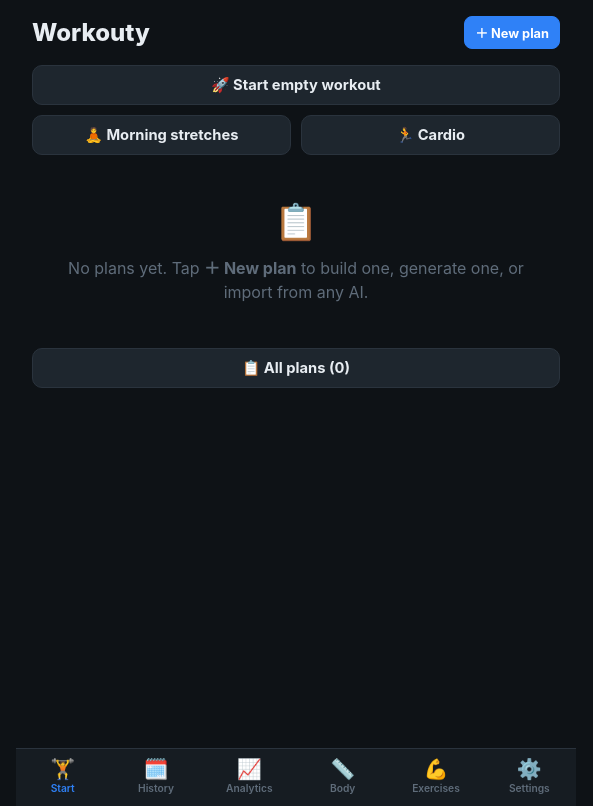
Test: app UI › renders home, navigates all tabs without crashing
Check: the text "Workouty" is shown, box [32,18,150,47]
Click the text "History".
click(156, 788)  # box [138,782,174,794]
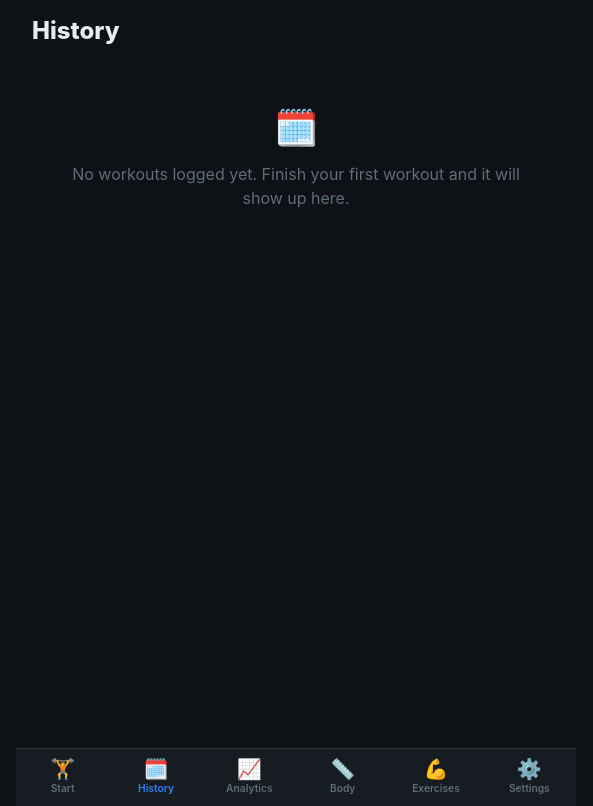
Check: the text "No workouts logged yet" is shown, box [72,164,520,208]
Click the text "Analytics".
click(249, 788)  # box [226,782,272,794]
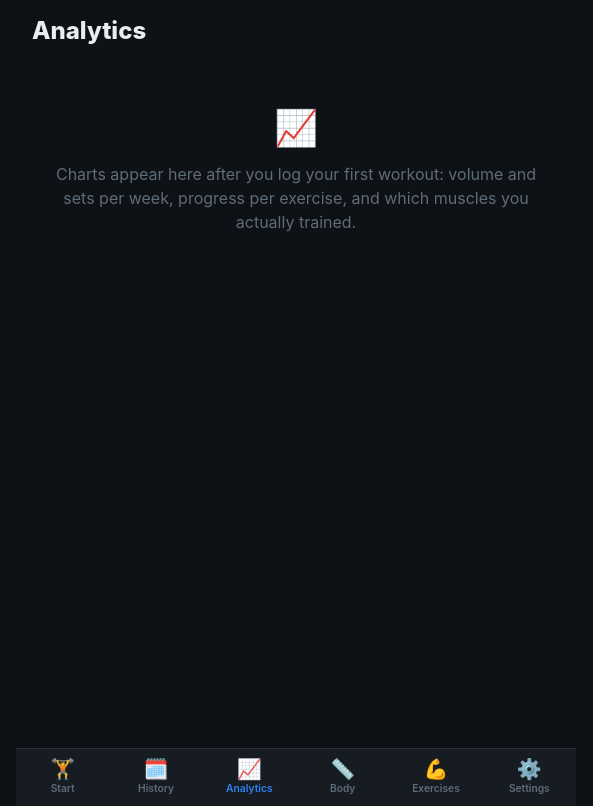
Check: the text "Charts appear here" is shown, box [56,164,536,232]
Click the text "Exercises".
click(436, 788)  # box [412,782,460,794]
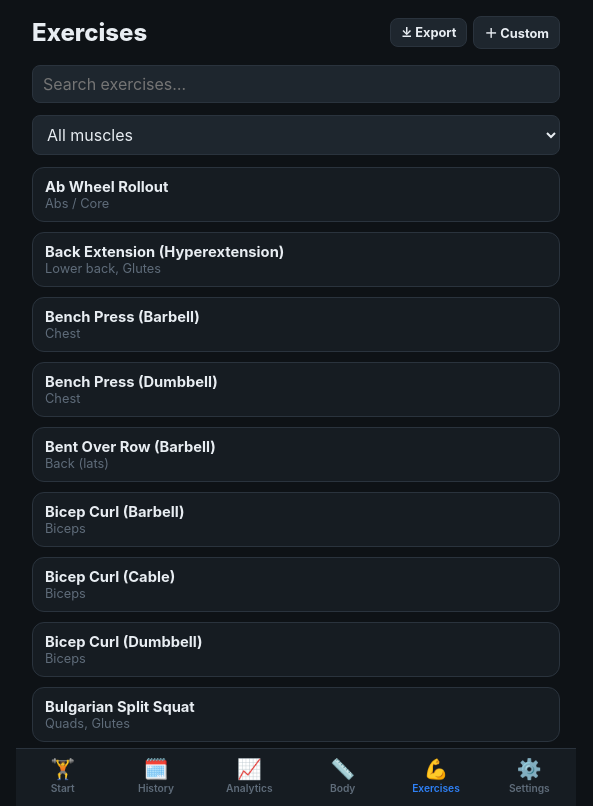
Check: the text "Bench Press (Barbell)" is shown, box [45,308,200,326]
Click the text "Settings".
click(529, 788)  # box [509,782,550,794]
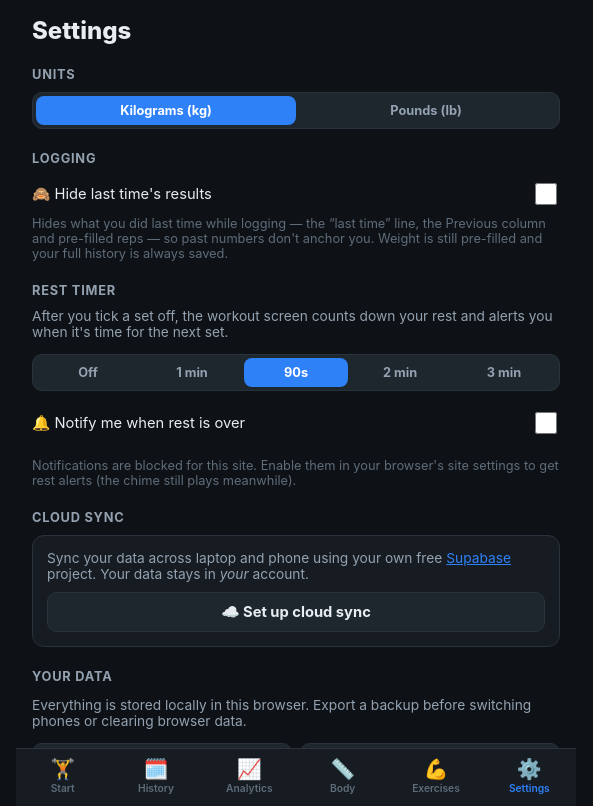
Check: the button "Kilograms (kg)" is shown, box [36,96,296,125]
Check: the button "☁️ Set up cloud sync" is shown, box [47,592,545,632]
